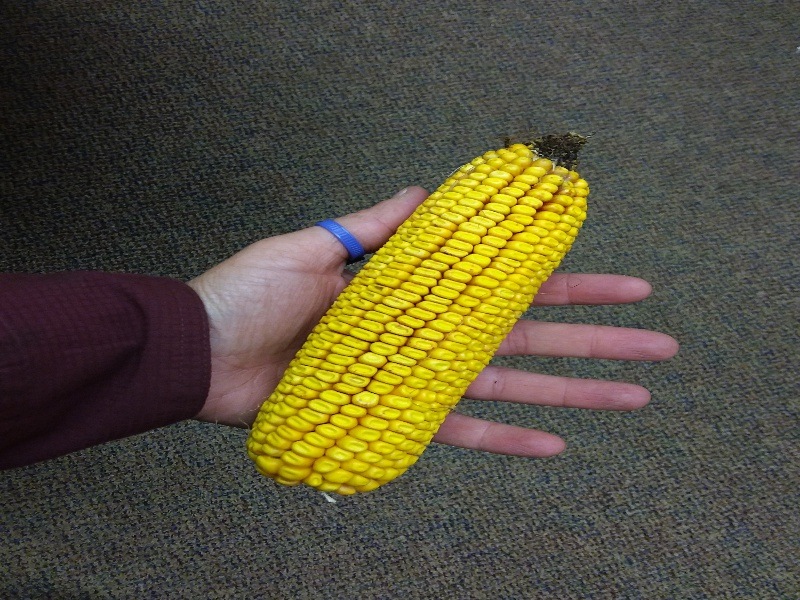band: (316, 215, 367, 261)
ear: (245, 127, 599, 500)
